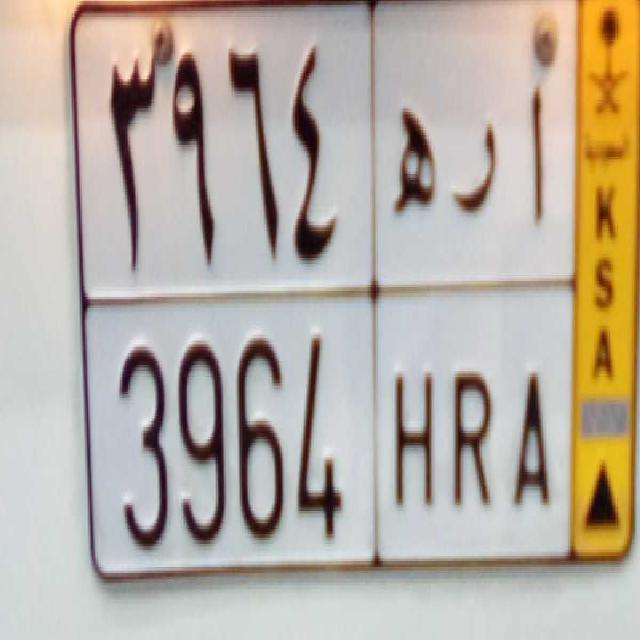license_plate: (87, 284, 576, 566)
